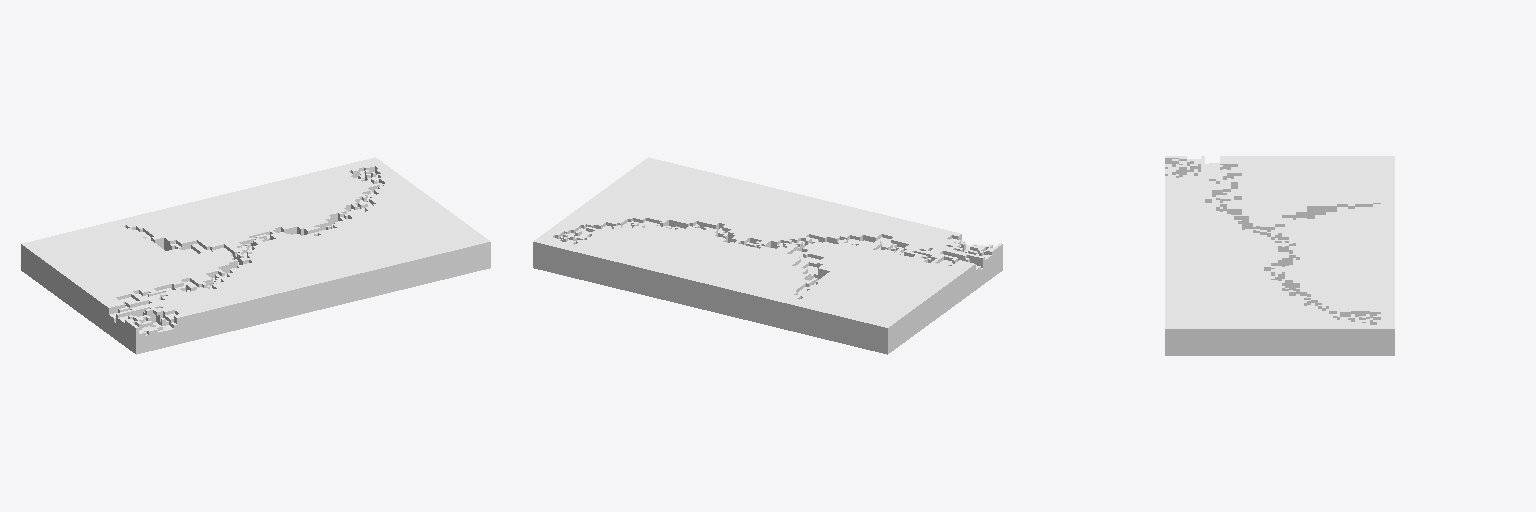
Rendered from big_floors.obj.
The picture shows the model from 3 angles: view 1: azimuth 30°, elevation 25°; view 2: azimuth 150°, elevation 25°; view 3: azimuth 270°, elevation 25°; orthographic projection.
Bounding box in the file's own units: 112 × 8 × 63.